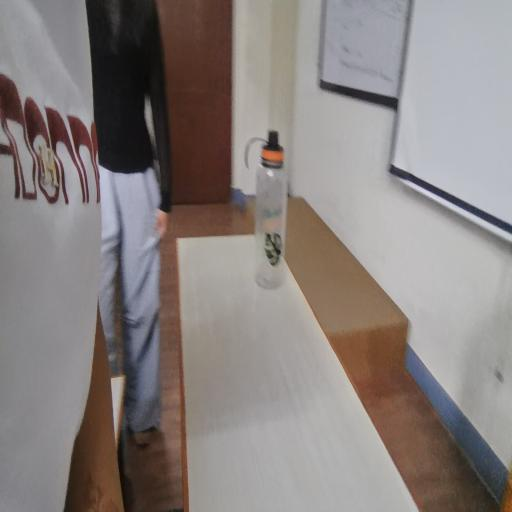Bottle: (254, 107, 295, 296)
